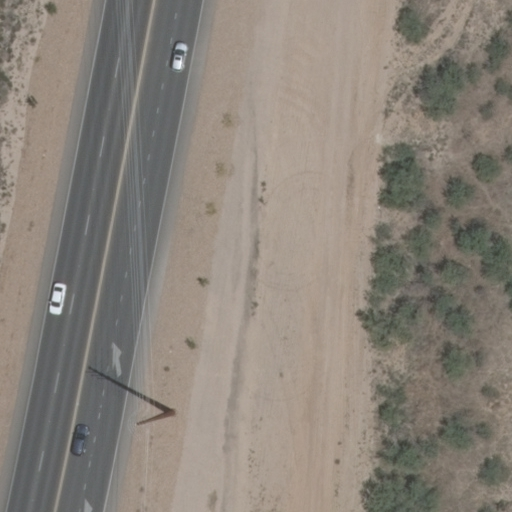DT: (134, 399, 182, 431)
